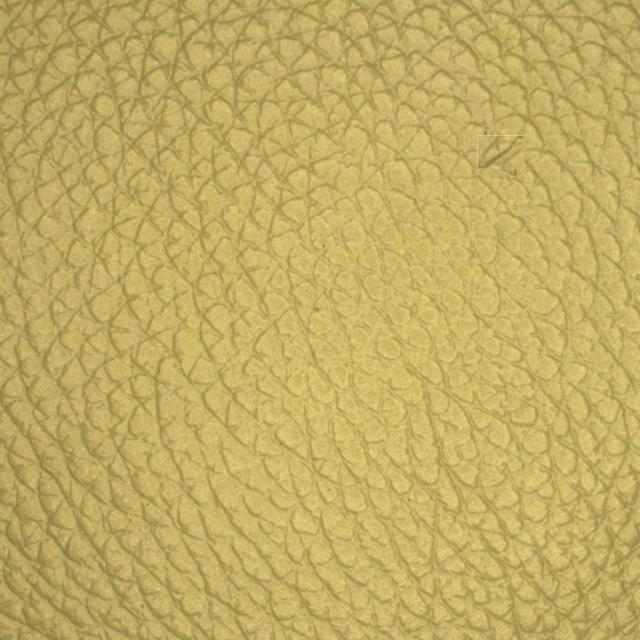Scratch: (392, 88, 581, 200)
